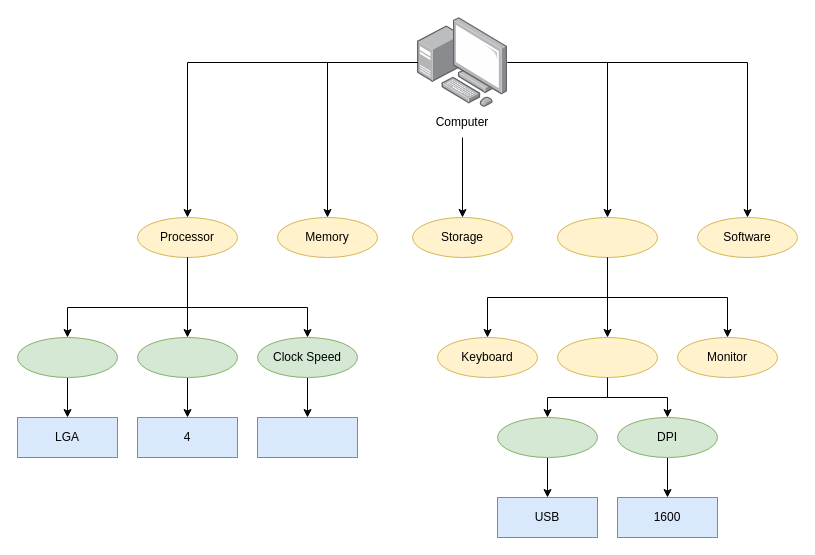
Image size: 815x555. Some labels were removed from this diagram. Here are the shapes that lost their labels. From the top down, the centre of each, then its label:
At point (607, 237): "Input/Output".
At point (67, 357): "Socket".
At point (187, 357): "Cores".
At point (607, 357): "Mouse".
At point (307, 437): "3.6 GHz 4.2 GHz".
At point (547, 437): "Inteface".
